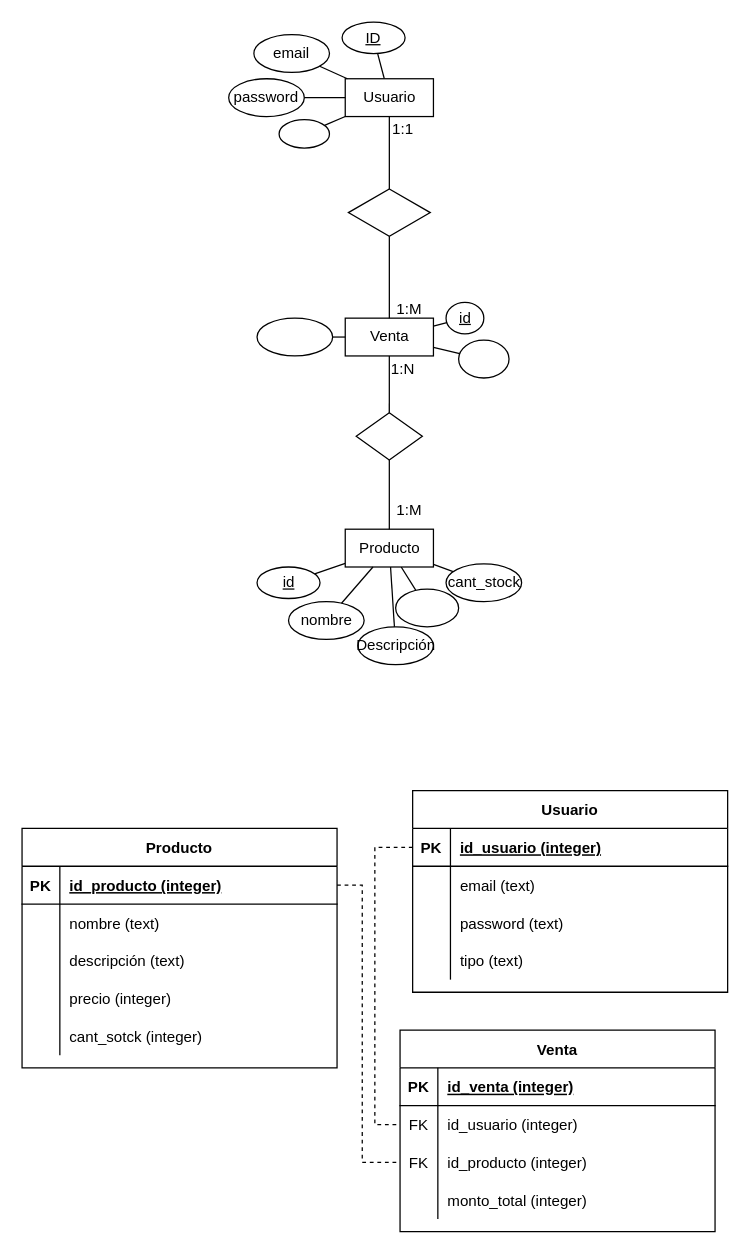
Image size: 750x1254. Some labels were removed from this diagram. Each missing label, with the centre of its shape:
fecha: the point at 483,358
monto total: the point at 294,336
precio: the point at 426,607
registra: the point at 388,212
tiene: the point at 388,435
tipo: the point at 303,133
